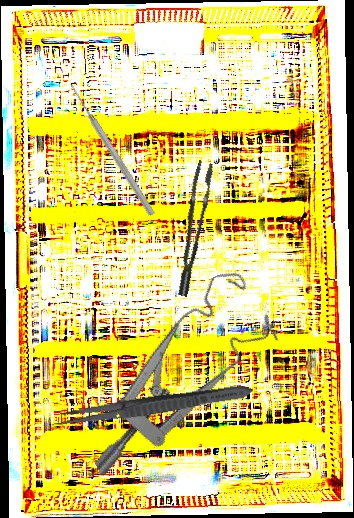Dressing Forceps: (48, 380, 256, 432)
Pusher: (66, 80, 157, 218)
Speculum: (44, 263, 300, 477)
Tissue Forceps: (159, 159, 227, 298)
